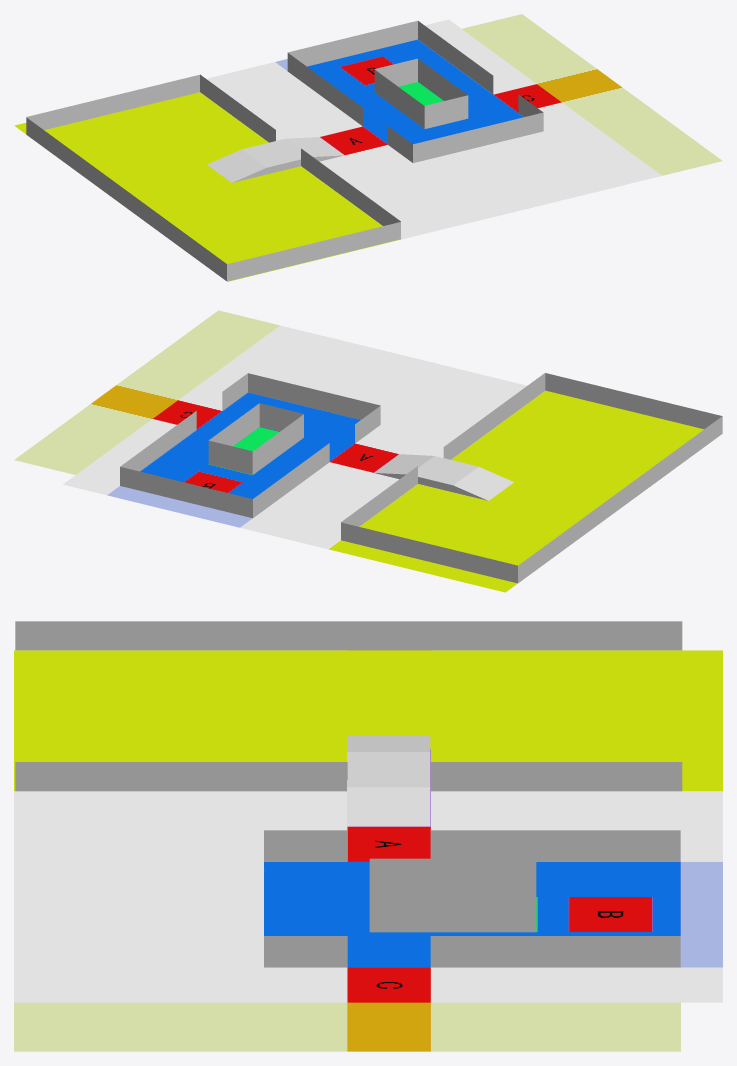
File: 19iflytekditu.dae
3 renders of one model, top to bottom at view 1: azimuth 30°, elevation 25°; view 2: azimuth 150°, elevation 25°; view 3: azimuth 270°, elevation 25°, orthographic. The views are drawn at different scales.
Visible parts, largest first — view 1: 平面, 平面.003, 平面.002, 平面.001, 立方体.001, 立方体.002, 立方体; view 2: 平面, 平面.003, 平面.002, 平面.001, 立方体.001, 立方体.002, 立方体; view 3: 平面, 平面.003, 平面.002, 平面.001, 立方体, 立方体.001, 立方体.002.
Part boxes in pixels (box(x1,y1,x2,y2)): 平面: box(14, 14, 722, 281); 平面.003: box(26, 74, 400, 281); 平面.002: box(287, 20, 543, 162); 平面.001: box(374, 58, 468, 128); 立方体.001: box(242, 139, 300, 174); 立方体.002: box(207, 149, 266, 182); 立方体: box(285, 137, 344, 161); 平面: box(14, 310, 703, 592); 平面.003: box(341, 373, 722, 583); 平面.002: box(120, 373, 380, 518); 平面.001: box(208, 403, 303, 474); 立方体.001: box(418, 456, 478, 491); 立方体.002: box(453, 467, 513, 500); 立方体: box(374, 454, 433, 478); 平面: box(14, 650, 722, 1051); 平面.003: box(15, 621, 682, 791); 平面.002: box(264, 830, 680, 967); 平面.001: box(369, 858, 536, 932); 立方体: box(347, 787, 430, 826); 立方体.001: box(347, 752, 430, 787); 立方体.002: box(347, 735, 430, 751).
Size of the model in its own units: 11.39 by 8.51 by 0.5138.
Materials: 1 (1 with a texture image).
